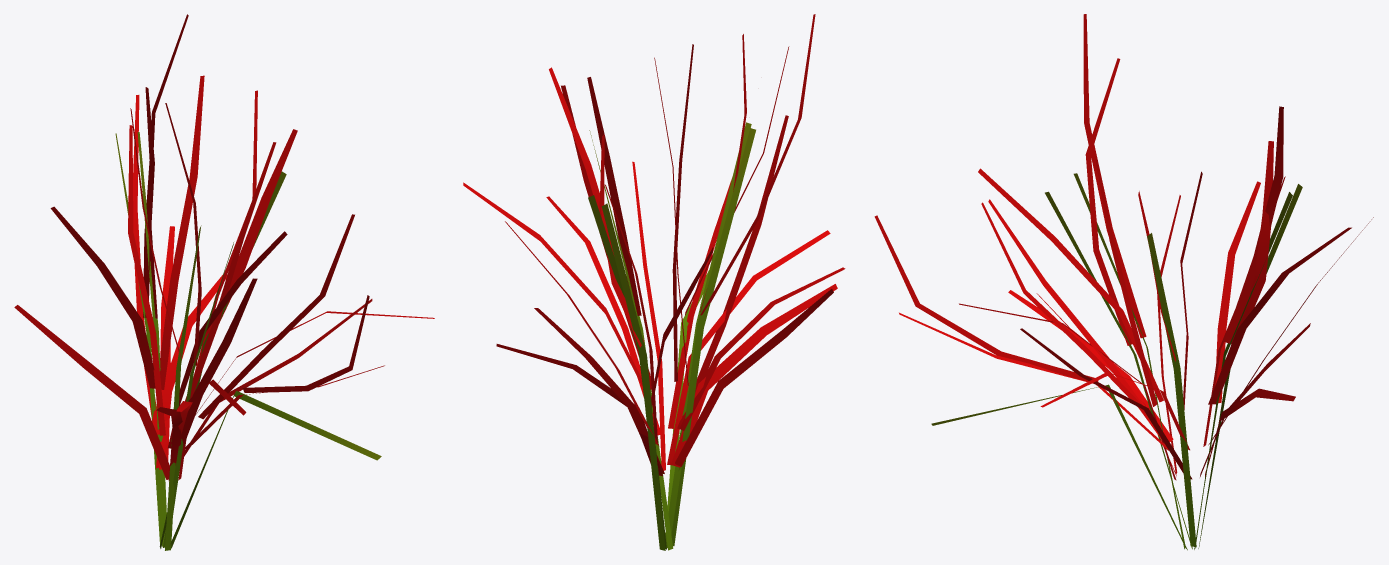
The model's file is vegetation_14.fbx.
The picture shows the model from 3 angles, left to right: view 1: azimuth 30°, elevation 25°; view 2: azimuth 150°, elevation 25°; view 3: azimuth 270°, elevation 25°; orthographic projection. The views are drawn at different scales.
Parts seen in each view (by area): view 1: _2l1m_Var17_; view 2: _2l1m_Var17_; view 3: _2l1m_Var17_.
Part boxes in pixels (box(x1,y1,x2,y2)): _2l1m_Var17_: box(14, 14, 434, 550); _2l1m_Var17_: box(463, 14, 845, 550); _2l1m_Var17_: box(874, 14, 1373, 550).
Bounding box in the file's own units: 11.01 × 15.04 × 13.85.
